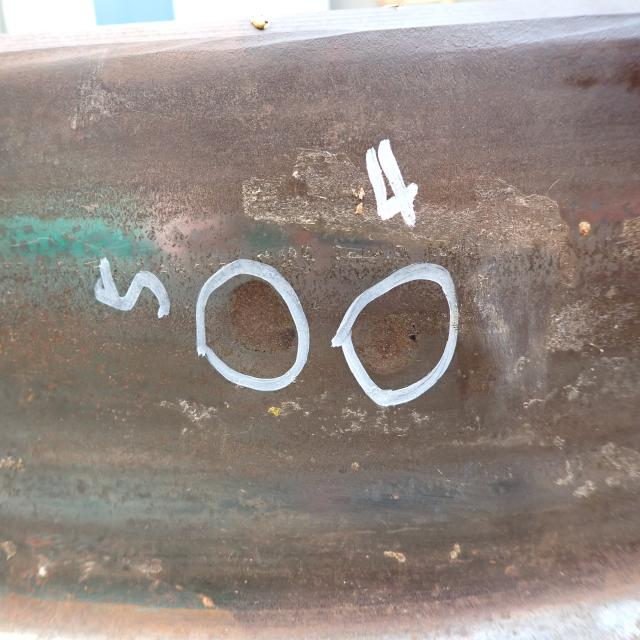geshang: (232, 278, 294, 360), (361, 315, 436, 373)
